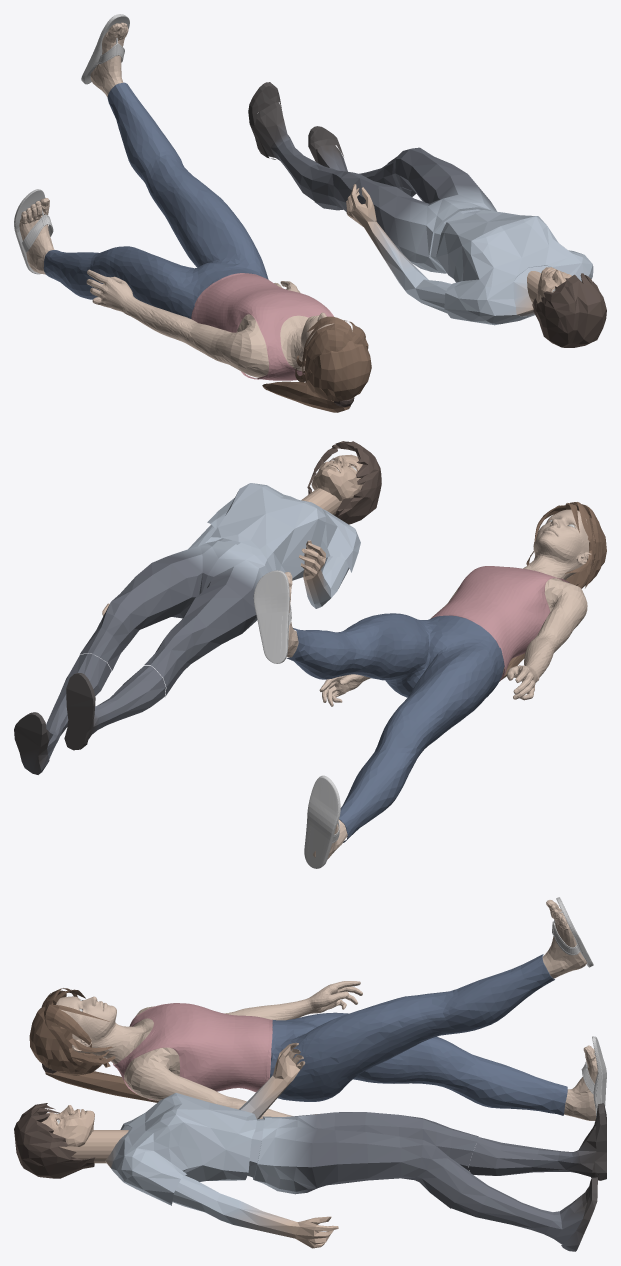
Rendered from couple_prepared.glb.
3 renders of one model, top to bottom at view 1: azimuth 30°, elevation 25°; view 2: azimuth 150°, elevation 25°; view 3: azimuth 270°, elevation 25°, orthographic. The views are drawn at different scales.
Visible parts, largest first — view 1: Group_001, Group_005, Group_008, Group_007, Group_020, Group_004, Group_022, Group_024, Group_002; view 2: Group_001, Group_005, Group_008, Group_007, Group_024, Group_022, Group_004, Group_020, Group_002; view 3: Group_001, Group_005, Group_008, Group_007, Group_020, Group_004, Group_002, Group_003, Group_022, Group_024.
Boxes of the visible parts, box(x1,y1,x2,y2) form: Group_001: box(248, 82, 593, 325); Group_005: box(43, 82, 268, 318); Group_008: box(19, 22, 352, 377); Group_007: box(191, 273, 333, 380); Group_020: box(262, 316, 371, 412); Group_004: box(532, 273, 606, 347); Group_022: box(14, 189, 53, 274); Group_024: box(81, 14, 129, 84); Group_002: box(537, 267, 571, 303); Group_001: box(14, 483, 360, 774); Group_005: box(286, 613, 504, 842); Group_008: box(285, 509, 591, 859); Group_007: box(431, 566, 570, 681); Group_024: box(253, 570, 291, 663); Group_022: box(304, 775, 340, 868); Group_004: box(307, 441, 381, 524); Group_020: box(502, 502, 606, 679); Group_002: box(311, 454, 362, 500); Group_001: box(105, 1042, 606, 1251); Group_005: box(270, 954, 567, 1115); Group_008: box(56, 900, 597, 1120); Group_007: box(113, 1003, 272, 1100); Group_020: box(29, 988, 158, 1102); Group_004: box(14, 1103, 95, 1178); Group_002: box(41, 1105, 94, 1146); Group_003: box(59, 1130, 128, 1163); Group_022: box(581, 1036, 606, 1117); Group_024: box(552, 897, 593, 967).
Bounding box in the file's own units: 1.47 × 0.8546 × 1.81.
